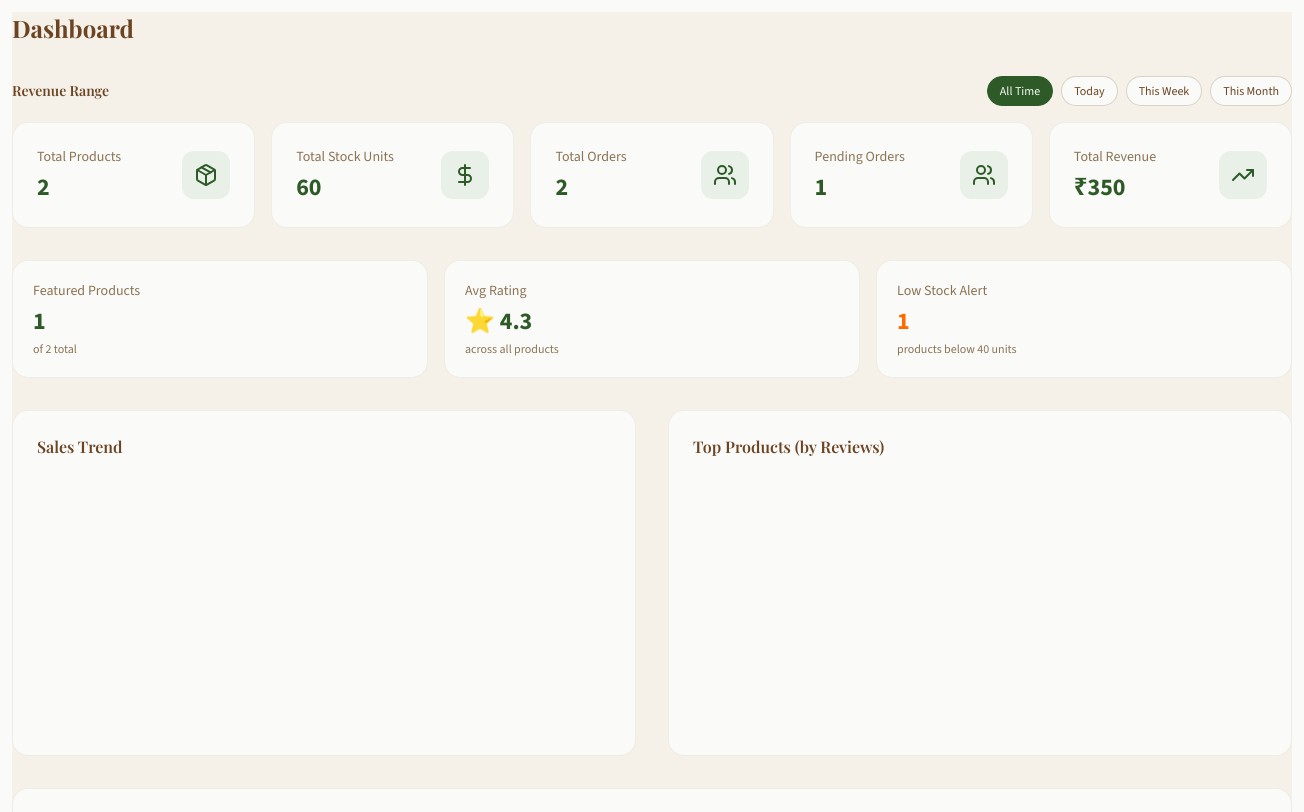
Test: AdminDashboard flow › loads data and toggles revenue range
Expected: the heading "Dashboard" is shown, [12,12,134,44]
Expected: the button "All Time" is shown, [987,76,1053,106]
Click the button "Today". click: (1089, 91)
box: [1061,76,1118,106]
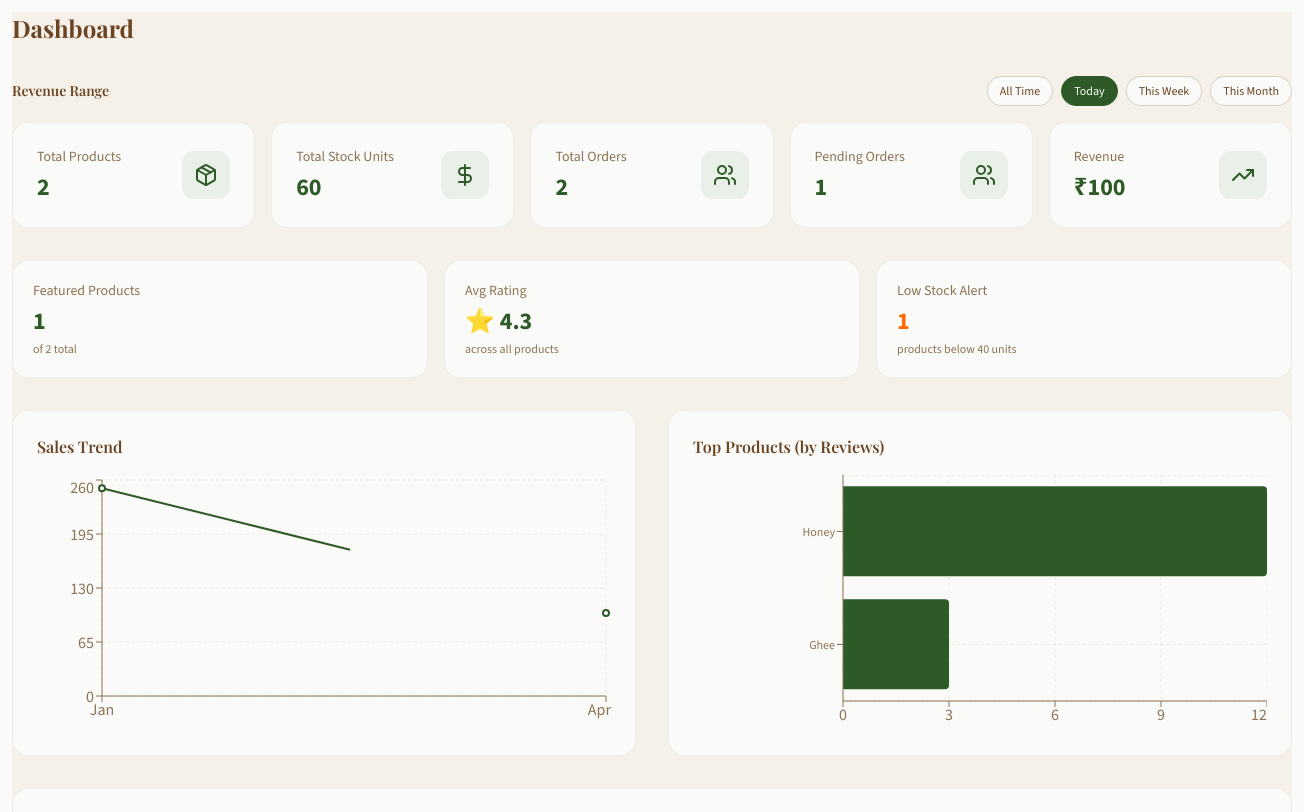
Expected: the text "Revenue ₹100" is shown, [1074,147,1126,203]
Expected: the text "₹350" reads "₹100", [1074,171,1126,203]
